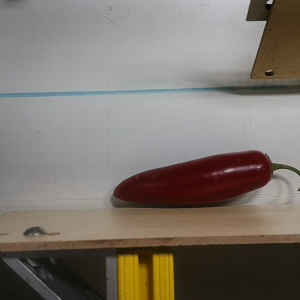Cut Point: (254, 149, 282, 187)
